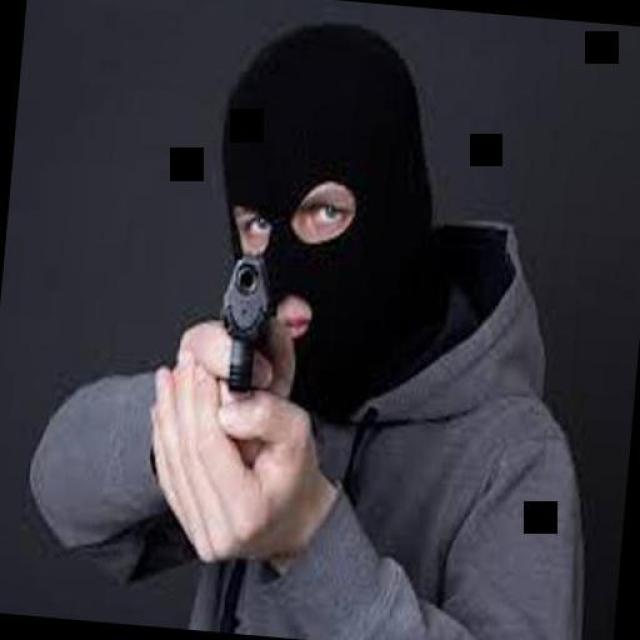gun: (214, 246, 268, 399)
